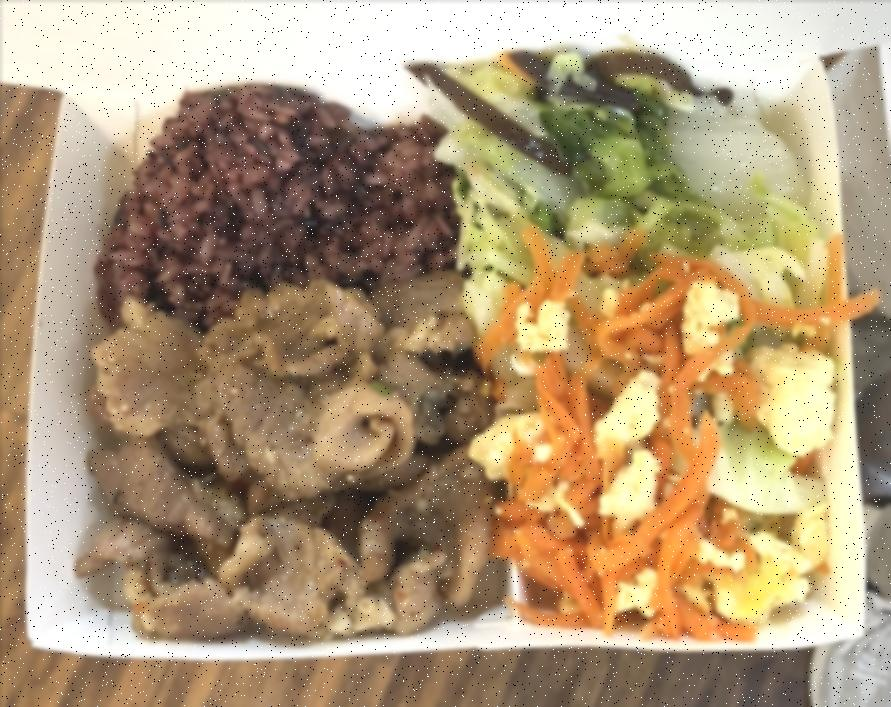box: (26, 70, 872, 664)
purple rice: (97, 87, 458, 328)
sauteed pork: (75, 280, 514, 642)
side dish: (507, 243, 814, 630), (446, 40, 828, 230), (464, 199, 824, 383)
